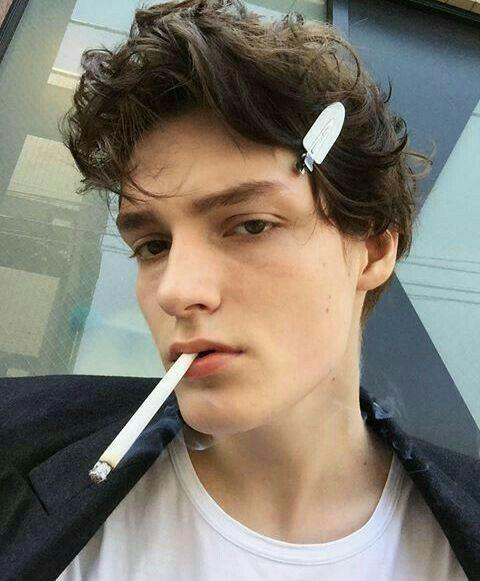cigarette: (87, 351, 199, 486)
